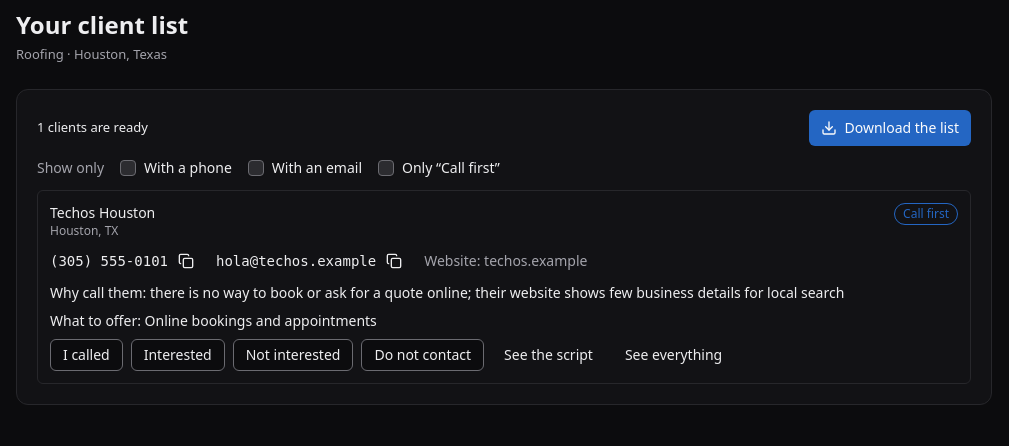
it: Your client list › records an interested client through the funnel and reads the list again
The width and height of the screenshot is (1009, 446).
Click the button "Interested".
click(178, 354)  # box [131,338,225,370]
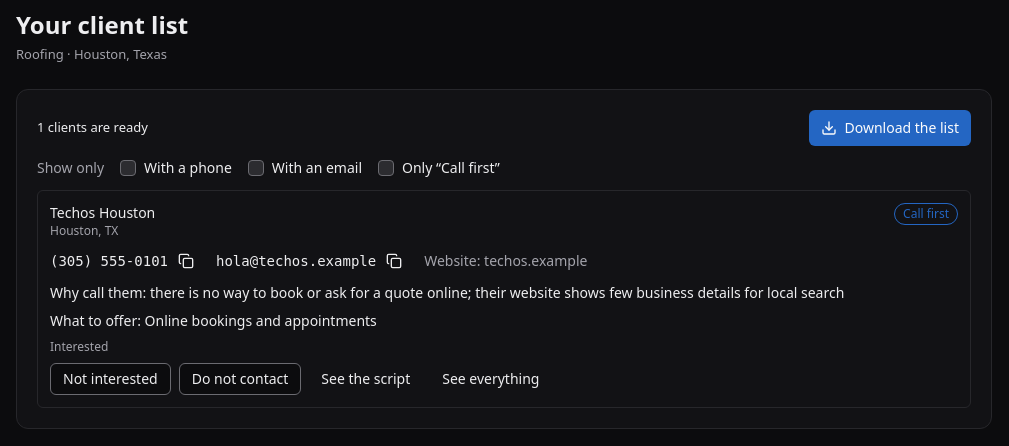
Expected: the button "Not interested" is shown, [50,362,171,394]
Now the button "I called" is gone
